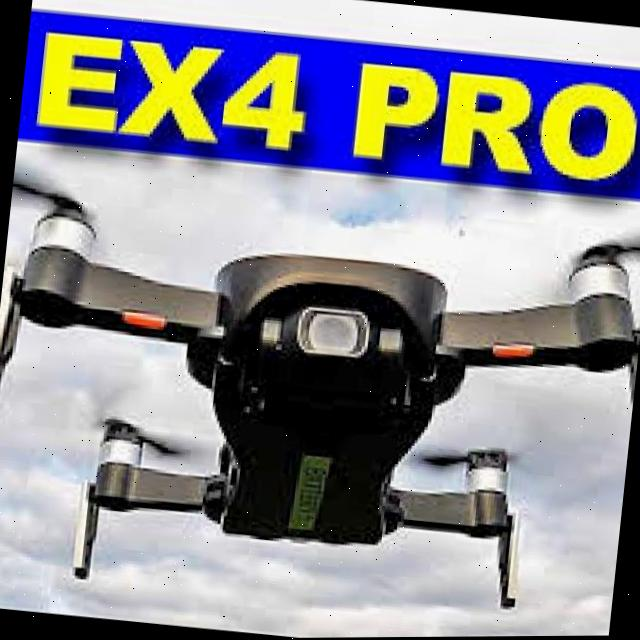drone: (0, 127, 640, 628)
